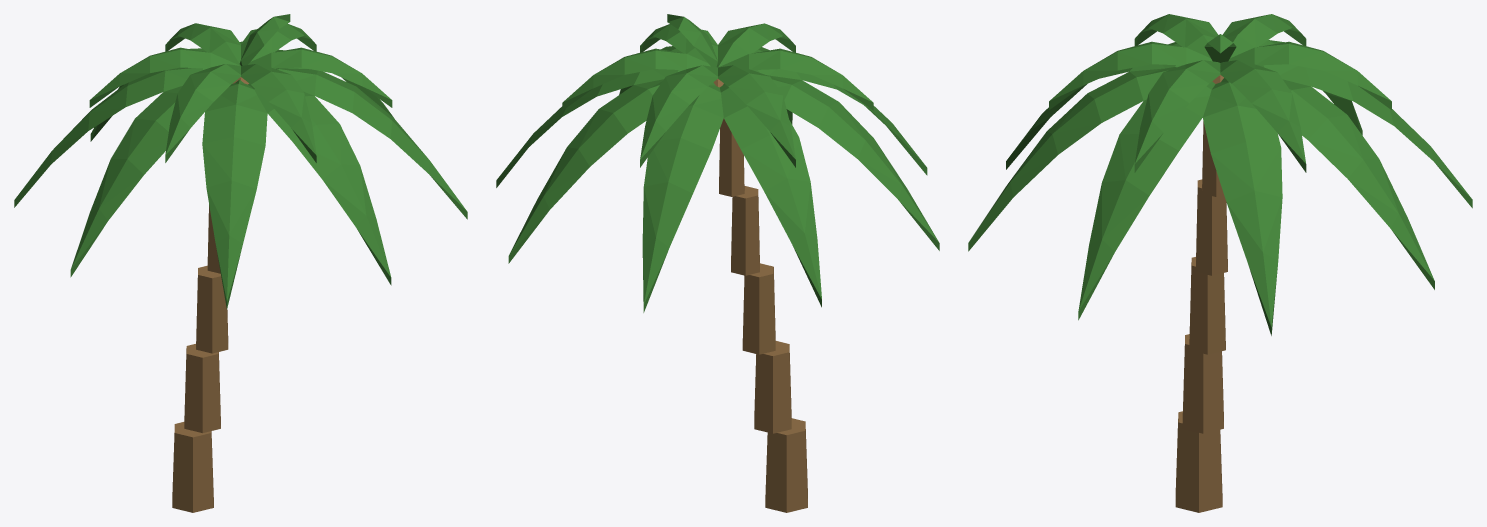
File: palm_tree_a.fbx
3 renders of one model, left to right at view 1: azimuth 30°, elevation 25°; view 2: azimuth 150°, elevation 25°; view 3: azimuth 270°, elevation 25°, orthographic. The views are drawn at different scales.
Parts seen in each view (by area): view 1: palm_tree_a; view 2: palm_tree_a; view 3: palm_tree_a.
Boxes of the visible parts, left/top/right/bottom form: palm_tree_a: left=14, top=14, right=467, bottom=512; palm_tree_a: left=496, top=14, right=939, bottom=512; palm_tree_a: left=968, top=14, right=1472, bottom=512.
Bounding box in the file's own units: 7.06 × 7.99 × 7.06.
1 material, 1 textured.
